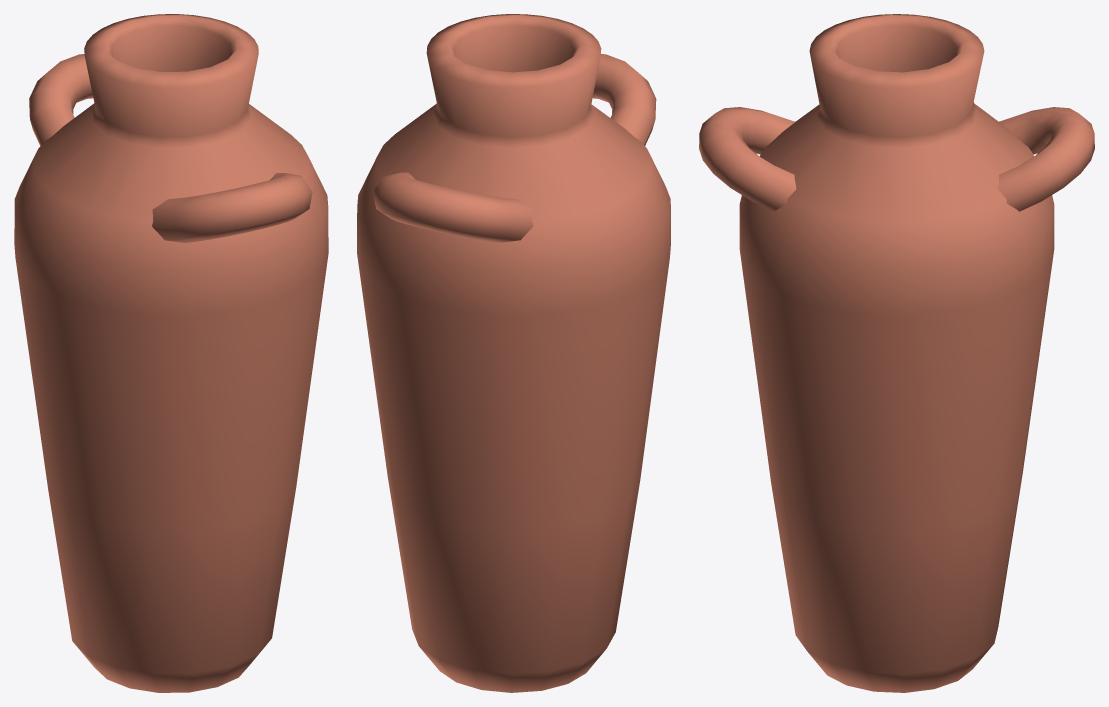
File: ClayPot_07 1.fbx
3 renders of one model, left to right at view 1: azimuth 30°, elevation 25°; view 2: azimuth 150°, elevation 25°; view 3: azimuth 270°, elevation 25°, orthographic.
Parts seen in each view (by area): view 1: ClayPot_07; view 2: ClayPot_07; view 3: ClayPot_07.
Part boxes in pixels (x1,y1,x2,y2): ClayPot_07: [14, 14, 328, 692]; ClayPot_07: [357, 14, 670, 692]; ClayPot_07: [699, 14, 1094, 692].
Size of the model in its own units: 27.91 by 60.32 by 35.12.
